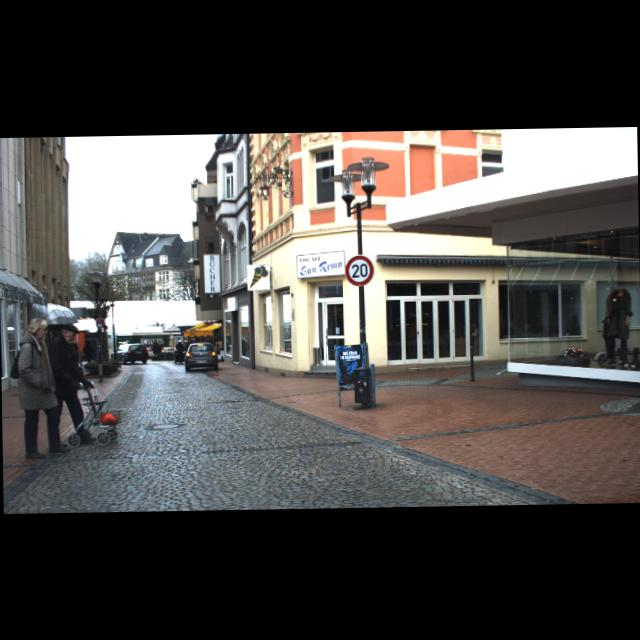prohibitory: (344, 255, 374, 286)
